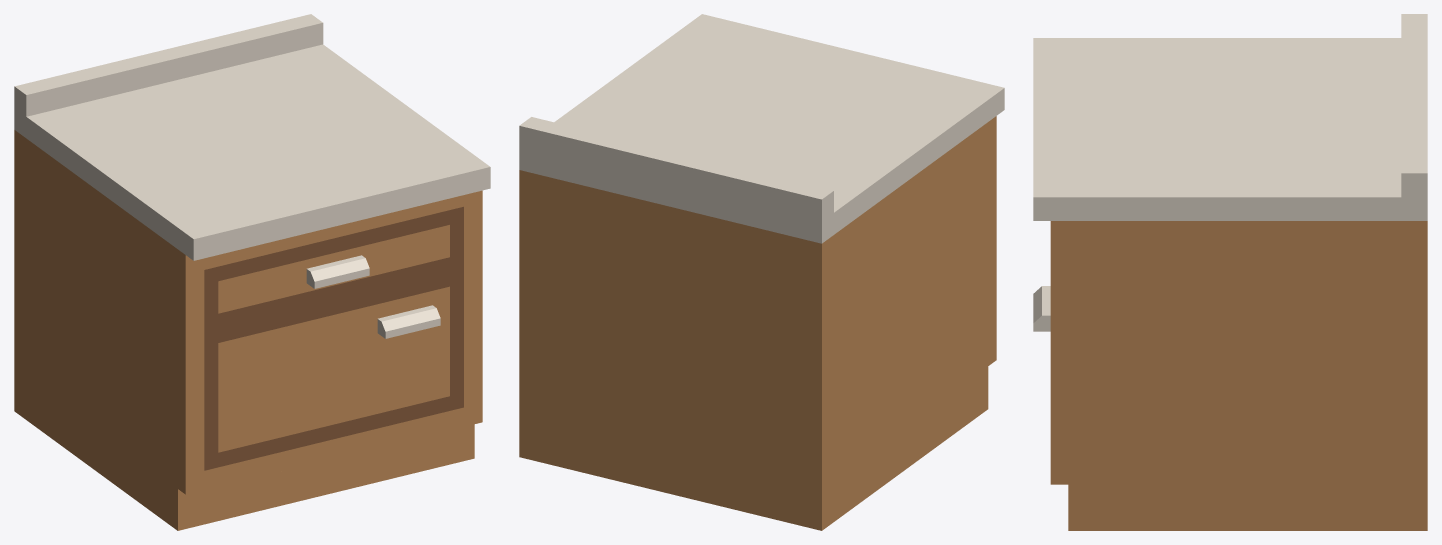
File: kitKitchenCabinetDrawer.glb
3 views of the same model, side by side, from view 1: azimuth 30°, elevation 25°; view 2: azimuth 150°, elevation 25°; view 3: azimuth 270°, elevation 25° (orthographic). The views are drawn at different scales.
Parts seen in each view (by area): view 1: kitKitchenCabinetDrawer_wood, kitKitchenCabinetDrawer_metal, kitKitchenCabinetDrawer_woodDark; view 2: kitKitchenCabinetDrawer_wood, kitKitchenCabinetDrawer_metal; view 3: kitKitchenCabinetDrawer_wood, kitKitchenCabinetDrawer_metal.
Part boxes in pixels (left/top/right/bottom): kitKitchenCabinetDrawer_wood: left=14, top=130, right=482, bottom=530; kitKitchenCabinetDrawer_metal: left=14, top=14, right=490, bottom=338; kitKitchenCabinetDrawer_woodDark: left=204, top=206, right=463, bottom=470; kitKitchenCabinetDrawer_wood: left=519, top=116, right=996, bottom=530; kitKitchenCabinetDrawer_metal: left=519, top=14, right=1004, bottom=243; kitKitchenCabinetDrawer_wood: left=1050, top=221, right=1427, bottom=530; kitKitchenCabinetDrawer_metal: left=1033, top=14, right=1427, bottom=331.
Size of the model in its own units: 0.86 by 0.9 by 0.9.
